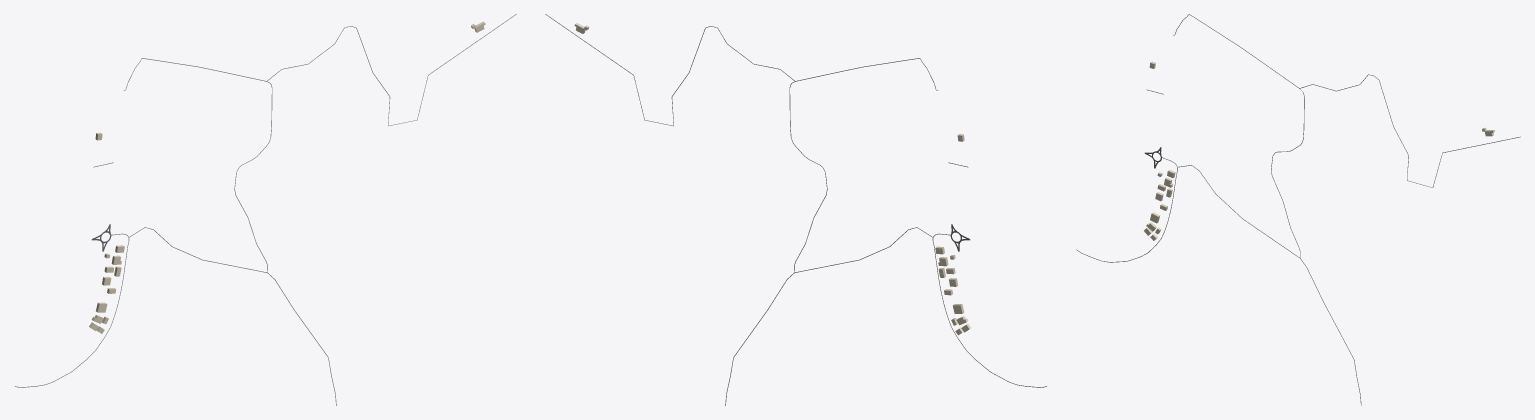
Rendered from historic-palestine-15_34_3567_3284.glb.
The picture shows the model from 3 angles, left to right: view 1: azimuth 30°, elevation 25°; view 2: azimuth 150°, elevation 25°; view 3: azimuth 330°, elevation 25°; orthographic projection. The views are drawn at different scales.
Size of the model in its own units: 1191 by 896 by 8.7.
